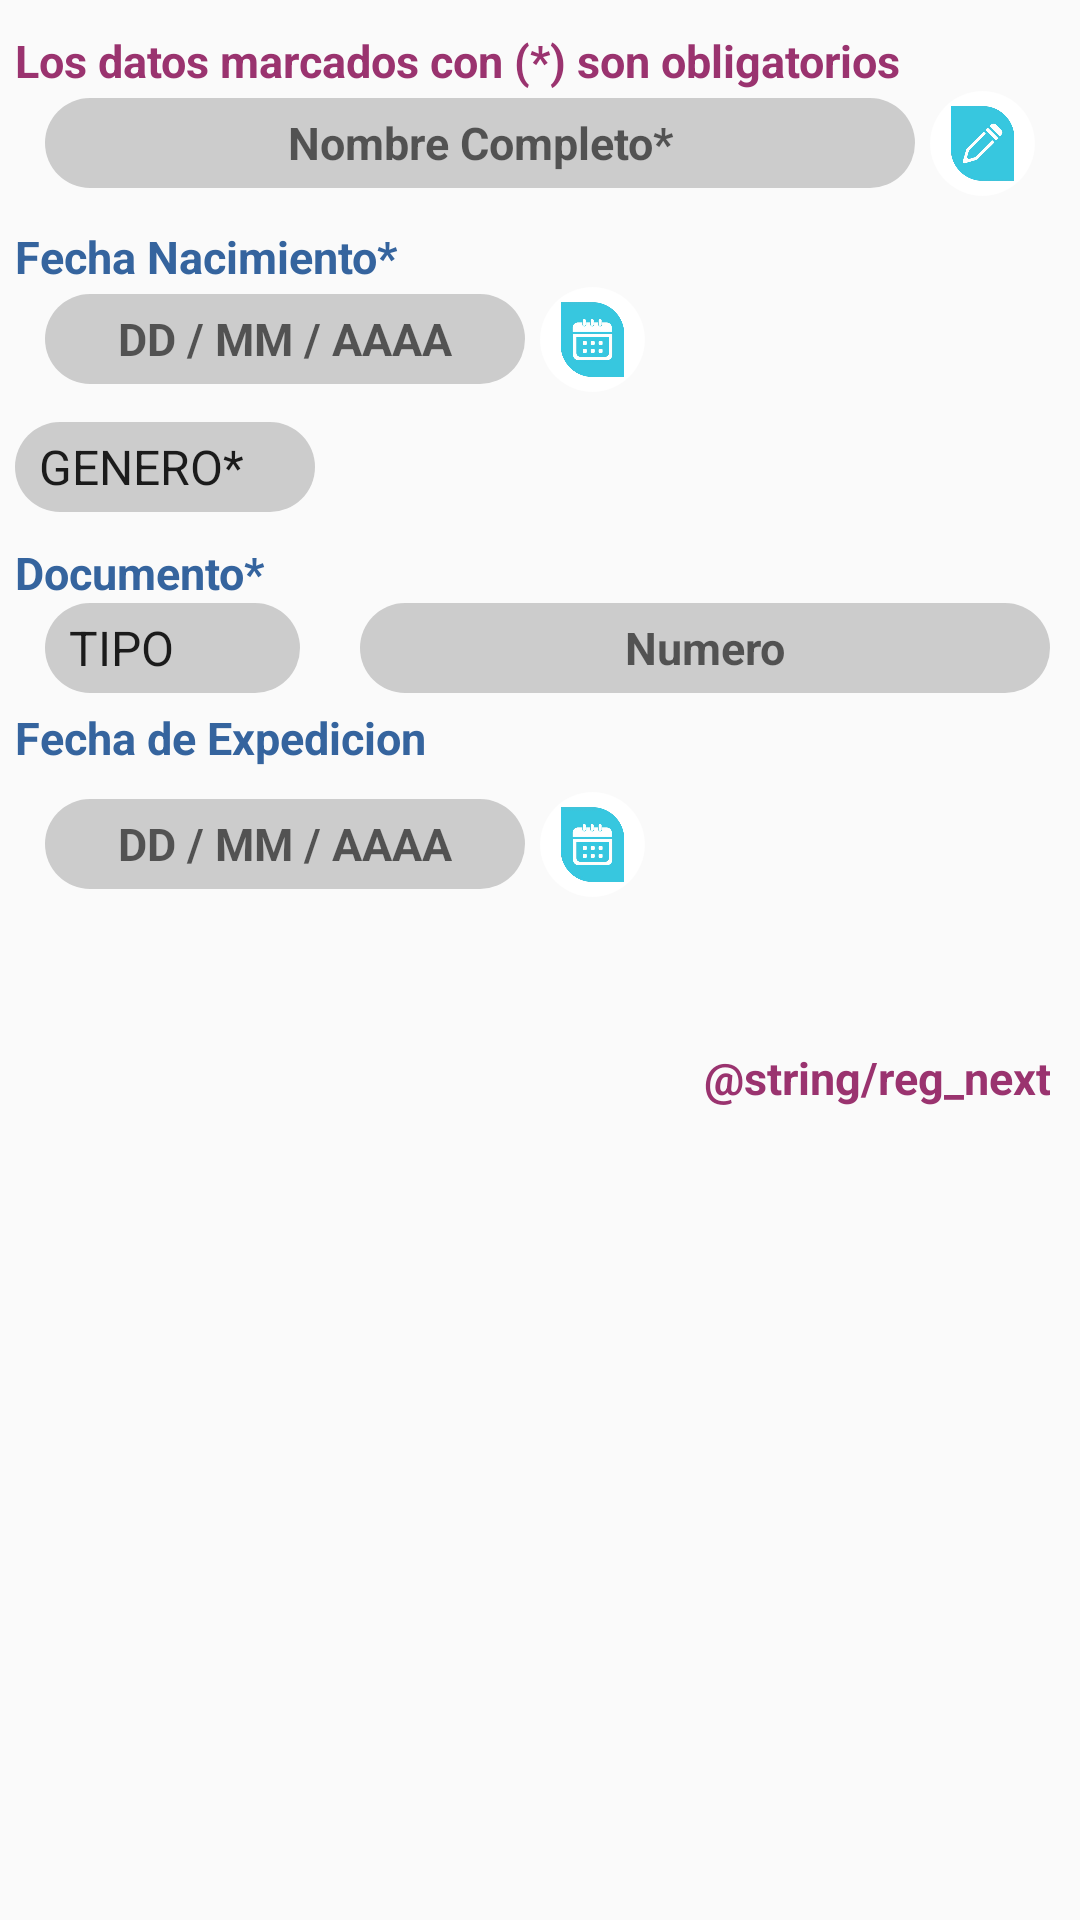

Screen size 1080*1920. Icon name, then its box in pixels as (x1, y1, x2, y2):
calendar: (561, 302, 624, 377), (561, 807, 624, 882)
editar: (951, 106, 1014, 181)
